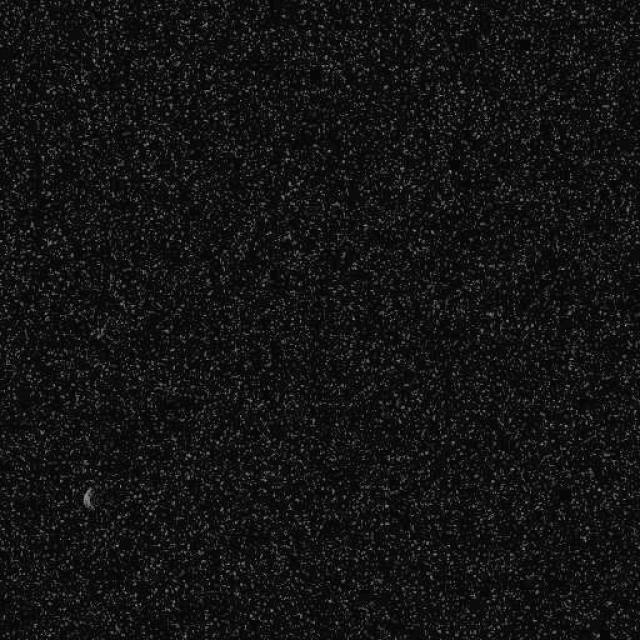D2: (82, 485, 96, 511)
